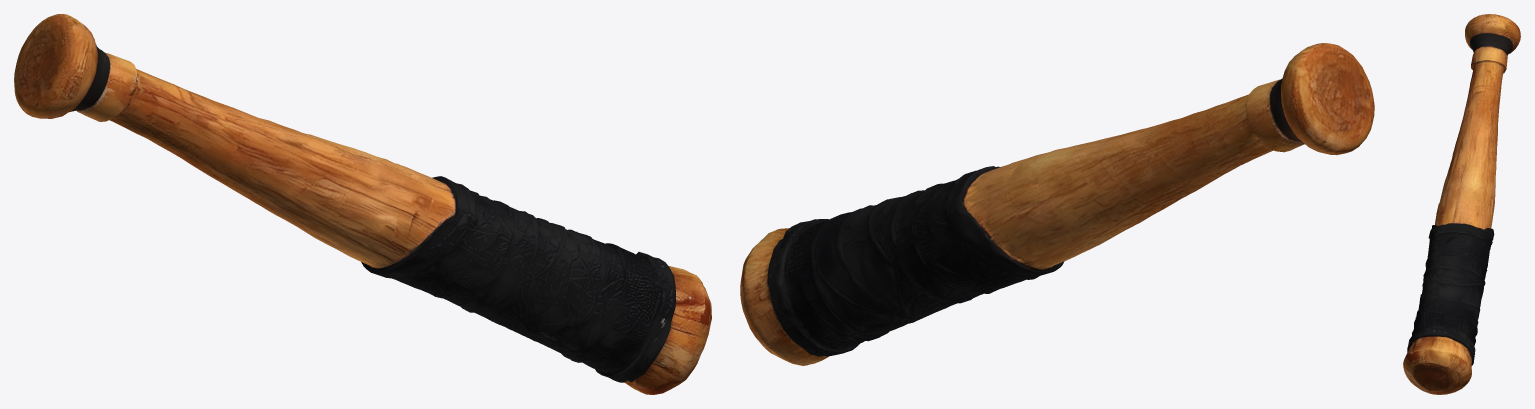
The model's file is bat.glb.
The picture shows the model from 3 angles, left to right: view 1: azimuth 30°, elevation 25°; view 2: azimuth 150°, elevation 25°; view 3: azimuth 270°, elevation 25°; orthographic projection. The views are drawn at different scales.
Parts seen in each view (by area): view 1: tripo_node_128dc3f3-913c-4cff-81f7-a1118590cfb6; view 2: tripo_node_128dc3f3-913c-4cff-81f7-a1118590cfb6; view 3: tripo_node_128dc3f3-913c-4cff-81f7-a1118590cfb6.
Part boxes in pixels (x1,y1,x2,y2): tripo_node_128dc3f3-913c-4cff-81f7-a1118590cfb6: (14, 14, 711, 394); tripo_node_128dc3f3-913c-4cff-81f7-a1118590cfb6: (740, 43, 1374, 365); tripo_node_128dc3f3-913c-4cff-81f7-a1118590cfb6: (1403, 14, 1520, 394).
Bounding box in the file's own units: 1 × 0.7023 × 0.3087.
1 material, 1 textured.
